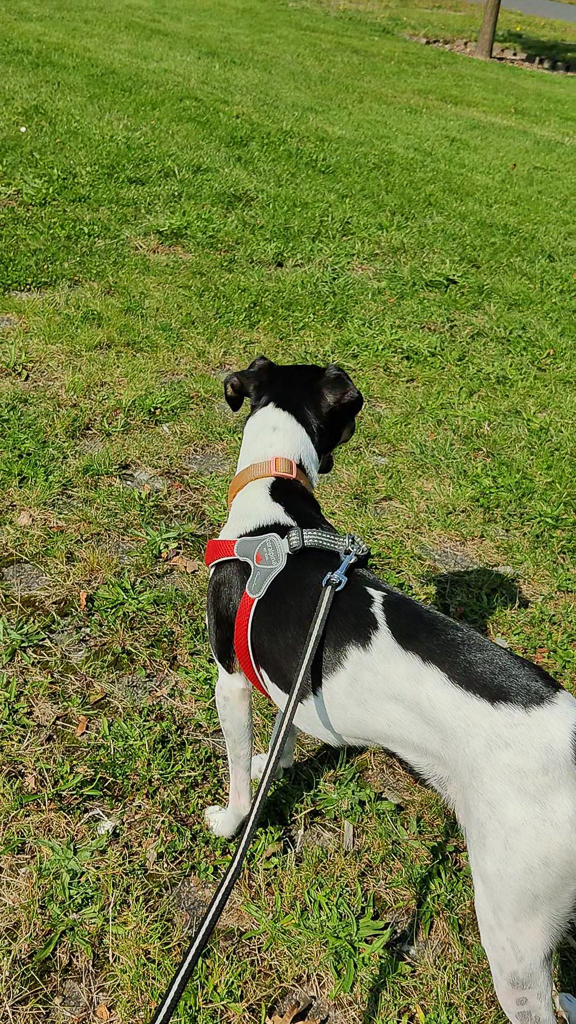Dog: (177, 340, 576, 1024)
